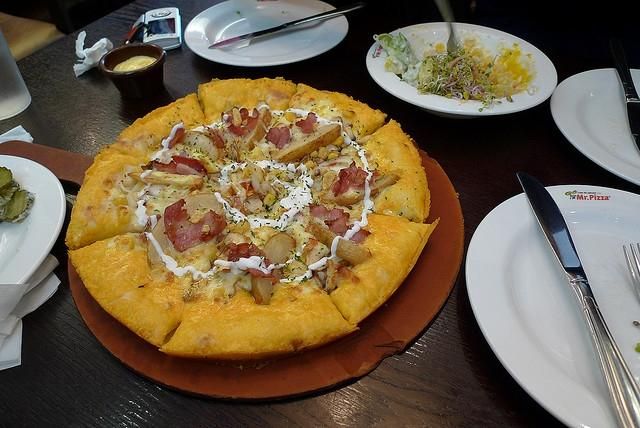potato: (269, 116, 343, 163), (304, 223, 372, 266), (319, 174, 398, 206), (176, 130, 228, 160), (127, 170, 204, 190), (240, 108, 272, 152), (182, 192, 234, 216), (263, 232, 296, 264), (250, 274, 274, 305), (246, 161, 265, 183), (258, 181, 279, 198), (251, 173, 262, 193), (221, 123, 232, 133)
